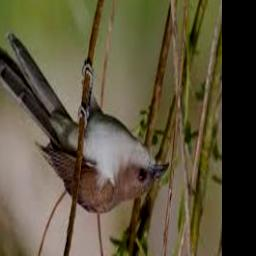Cuckoo: (0, 32, 169, 214)
